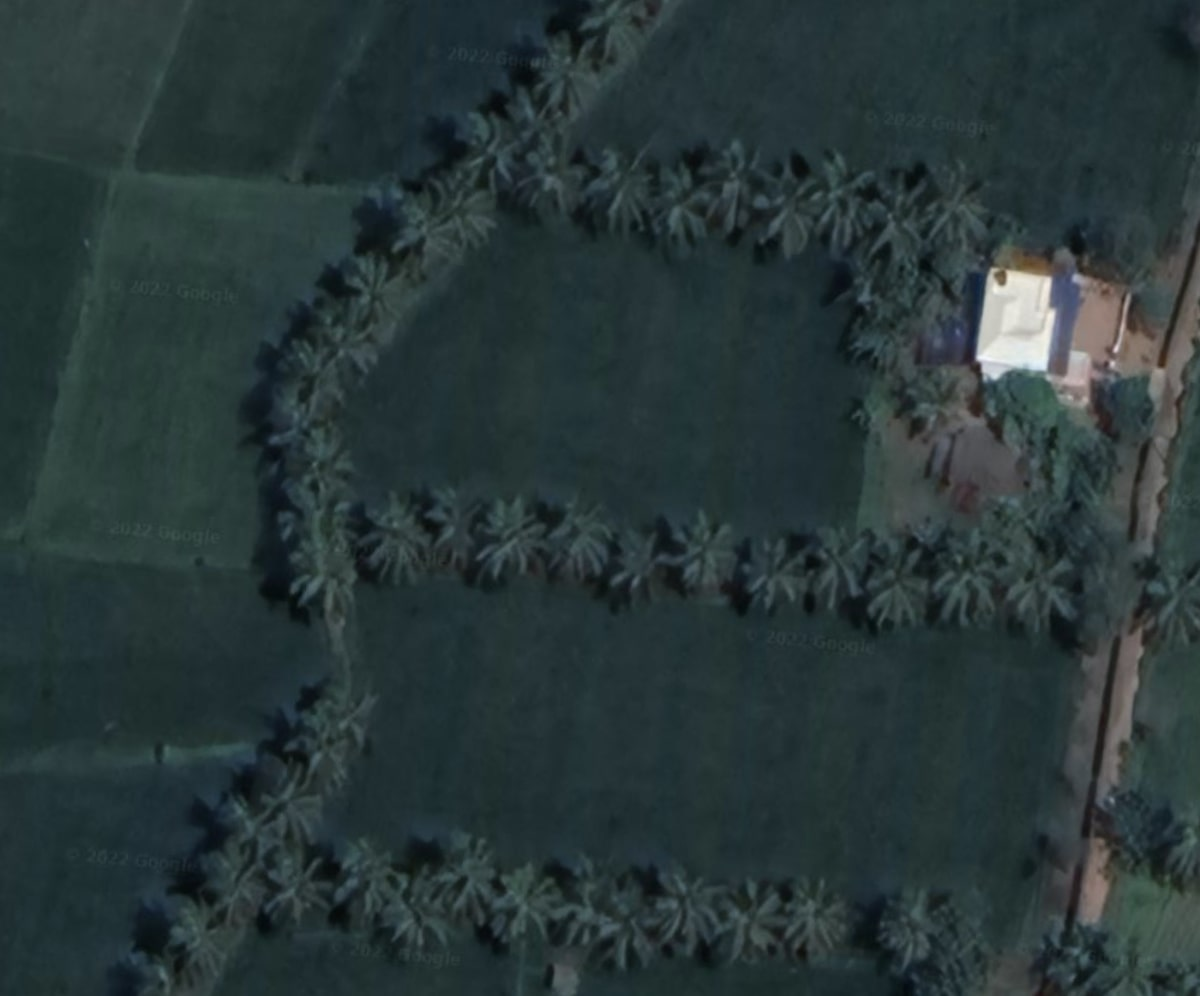coconut: (431, 105, 546, 200), (511, 27, 612, 125), (312, 247, 409, 334), (291, 302, 385, 385), (571, 142, 653, 237), (459, 496, 546, 585), (1000, 546, 1086, 636), (811, 155, 886, 255), (254, 414, 358, 486), (430, 829, 504, 929), (641, 864, 729, 947), (747, 165, 824, 258), (540, 485, 614, 580), (922, 162, 998, 253), (869, 888, 950, 971), (924, 539, 1001, 625), (408, 479, 480, 570), (189, 840, 264, 925), (414, 165, 492, 246), (358, 489, 425, 583), (282, 540, 359, 621), (373, 889, 460, 960), (635, 168, 712, 248), (699, 146, 768, 235), (779, 875, 854, 956), (860, 172, 935, 252), (333, 840, 409, 918), (256, 852, 331, 930), (490, 864, 560, 946), (723, 876, 785, 966), (797, 528, 864, 609), (283, 718, 352, 796), (1140, 556, 1200, 645), (597, 900, 665, 978), (670, 515, 735, 595), (254, 774, 324, 846), (162, 900, 224, 980), (513, 142, 581, 214), (736, 540, 799, 611), (606, 530, 661, 600)
